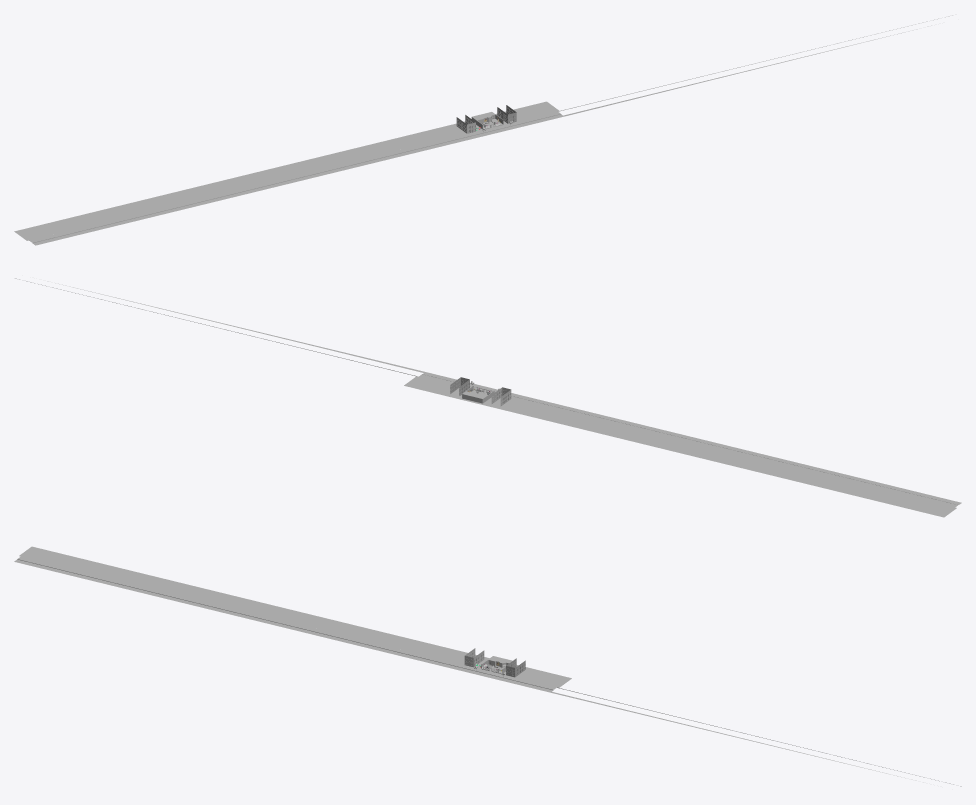
Rendered from SM_LobbyLayout.fbx.
3 renders of one model, top to bottom at view 1: azimuth 30°, elevation 25°; view 2: azimuth 150°, elevation 25°; view 3: azimuth 330°, elevation 25°, orthographic.
Visible parts, largest first — view 1: SM_LobbyLayout; view 2: SM_LobbyLayout; view 3: SM_LobbyLayout.
Part boxes in pixels (x1,y1,x2,y2): SM_LobbyLayout: (14, 15, 952, 245); SM_LobbyLayout: (15, 278, 961, 517); SM_LobbyLayout: (14, 546, 961, 786).
Size of the model in its own units: 112896 by 1126 by 4123.
